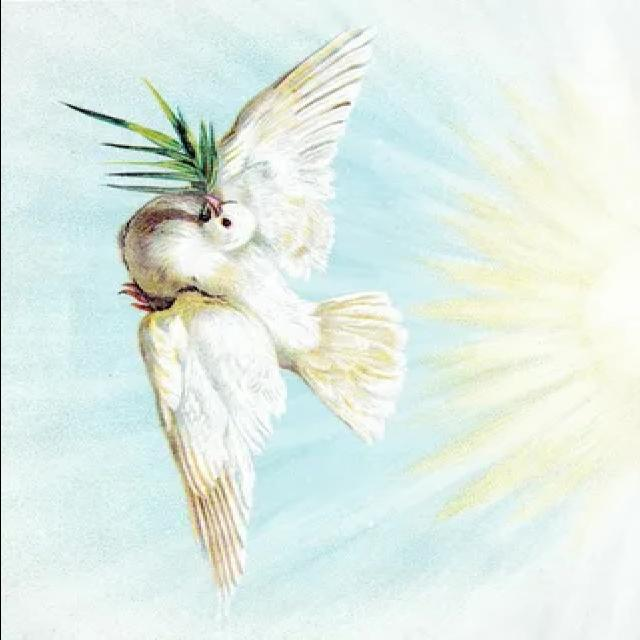pigeon: (85, 26, 422, 598)
